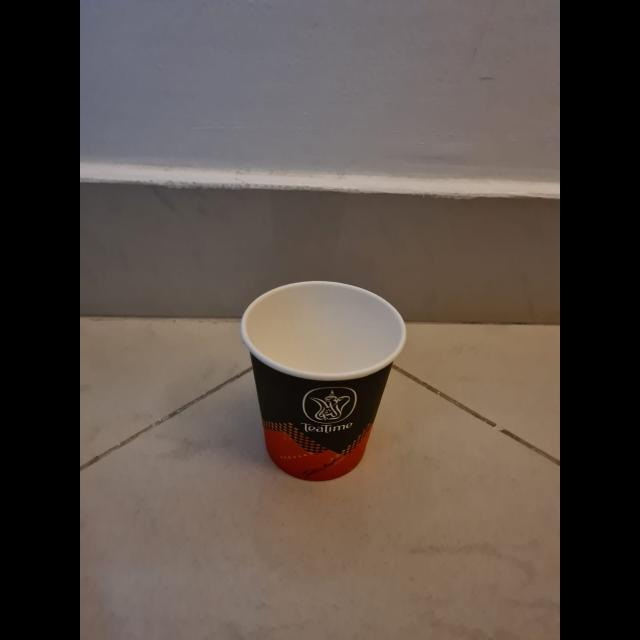trash: (242, 281, 408, 484)
